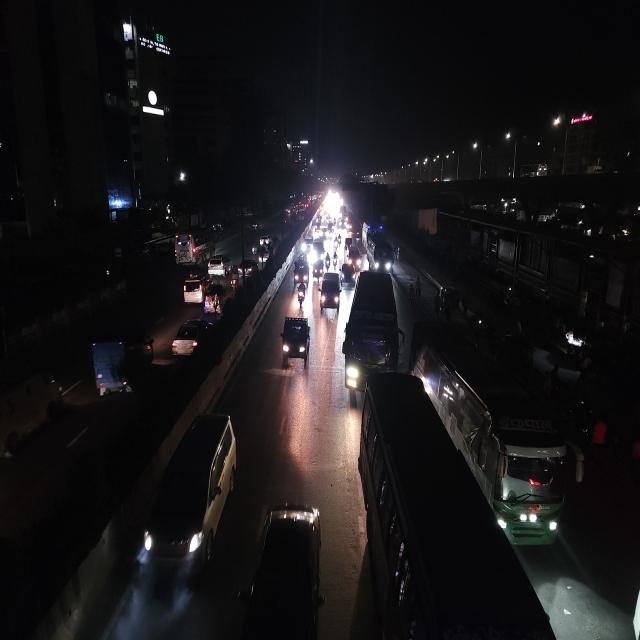bus: (357, 373, 583, 640), (425, 322, 571, 536), (343, 266, 401, 395), (172, 226, 217, 266), (367, 232, 393, 275)
car: (139, 410, 240, 587), (238, 499, 326, 640), (169, 312, 218, 362), (319, 270, 342, 315), (182, 274, 210, 305), (207, 251, 232, 277), (346, 242, 362, 270), (238, 256, 256, 280), (341, 262, 355, 290), (257, 247, 271, 268), (258, 233, 272, 249), (303, 232, 314, 248)
motorcycle: (296, 284, 306, 311), (230, 270, 238, 290), (332, 251, 338, 272)
pedestrian: (433, 291, 442, 318), (408, 284, 416, 310), (416, 276, 422, 302)
pickup_van: (280, 311, 312, 370), (292, 254, 310, 287)
truck: (88, 329, 156, 401)
